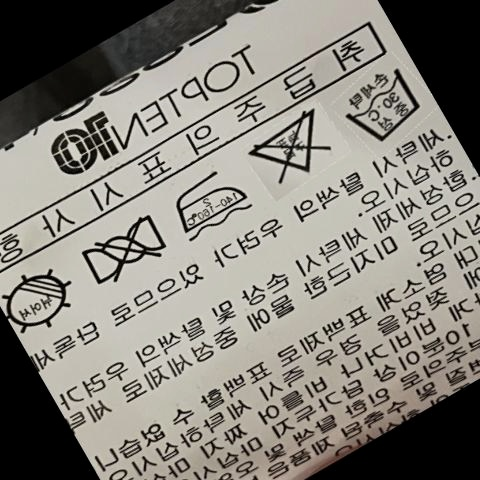DN_wring: (71, 218, 169, 283)
dry_flat_in_shade: (3, 272, 71, 330)
hand_wash: (337, 69, 414, 144)
iron_medium: (169, 172, 249, 234)
non_chlorine_bleach: (251, 112, 322, 178)
